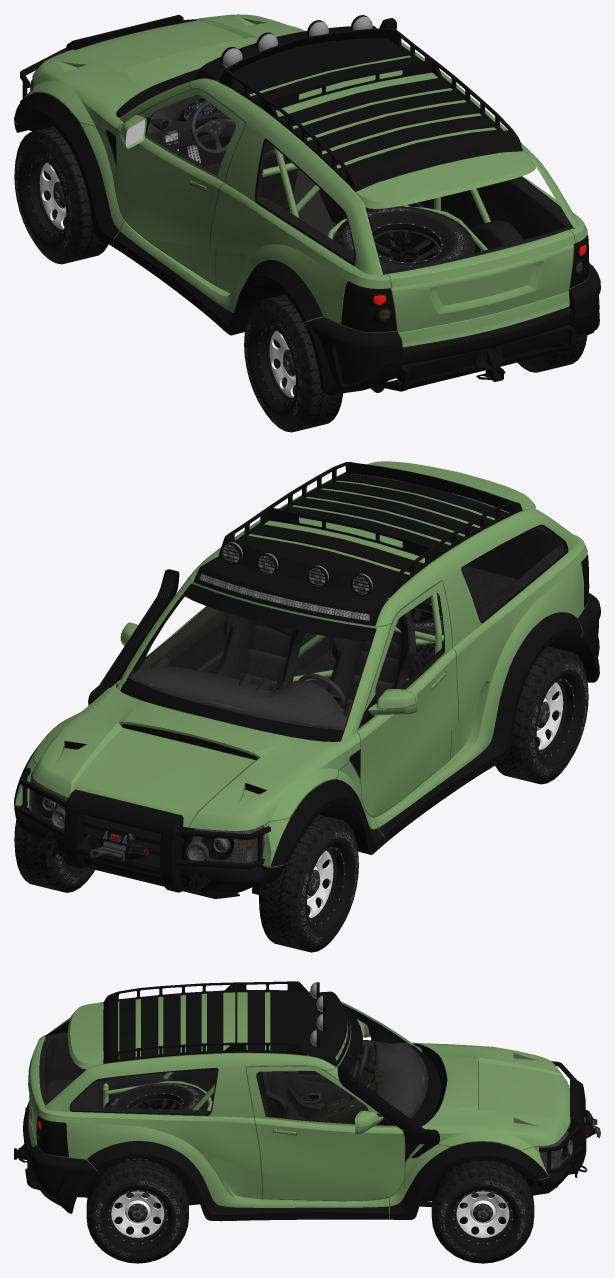
File: vehicle-offroad.glb
The picture shows the model from 3 angles, top to bottom: view 1: azimuth 30°, elevation 25°; view 2: azimuth 150°, elevation 25°; view 3: azimuth 270°, elevation 25°; orthographic projection. The views are drawn at different scales.
Visible parts, largest first — view 1: Body, roof rack, interior, Tire_tireBL, Tire_tireFL, tire carrier, rear under guard, roll cage, top lights, light bar, brush guard, Tire_tireBR (+3 smaller); view 2: Body, interior, roof rack, Tire_tireFL, Tire_tireBL, light bar, brush guard, Tire_tireFR, light guard, snorkle, tire carrier, top lights (+4 smaller); view 3: Body, interior, roof rack, Tire_tireBR, Tire_tireFR, tire carrier, snorkle, light bar, brush guard, light guard, top lights, mirror rt.
Part boxes in pixels (bbox=[...]): Body: bbox=[14, 14, 600, 394]; roof rack: bbox=[218, 28, 522, 191]; interior: bbox=[146, 94, 573, 274]; Tire_tireBL: bbox=[244, 294, 342, 432]; Tire_tireFL: bbox=[14, 126, 108, 264]; tire carrier: bbox=[327, 206, 487, 271]; rear under guard: bbox=[385, 324, 576, 391]; roll cage: bbox=[262, 147, 490, 222]; top lights: bbox=[220, 15, 372, 67]; light bar: bbox=[194, 26, 376, 80]; brush guard: bbox=[66, 15, 183, 50]; Tire_tireBR: bbox=[517, 335, 587, 372]; Body: bbox=[14, 461, 600, 892]; interior: bbox=[129, 526, 566, 730]; roof rack: bbox=[218, 462, 522, 597]; Tire_tireFL: bbox=[259, 814, 358, 952]; Tire_tireBL: bbox=[495, 646, 588, 784]; light bar: bbox=[193, 557, 388, 625]; brush guard: bbox=[64, 789, 184, 892]; Tire_tireFR: bbox=[14, 820, 94, 892]; light guard: bbox=[20, 767, 270, 869]; snorkle: bbox=[88, 569, 179, 705]; tire carrier: bbox=[293, 593, 444, 681]; top lights: bbox=[221, 542, 372, 596]; Body: bbox=[23, 991, 575, 1221]; interior: bbox=[39, 1007, 428, 1123]; roof rack: bbox=[103, 981, 320, 1063]; Tire_tireBR: bbox=[86, 1159, 188, 1263]; Tire_tireFR: bbox=[431, 1160, 534, 1263]; tire carrier: bbox=[103, 1081, 212, 1110]; snorkle: bbox=[337, 1065, 439, 1157]; light bar: bbox=[308, 991, 350, 1066]; brush guard: bbox=[570, 1077, 586, 1168]; light guard: bbox=[539, 1061, 582, 1173]; top lights: bbox=[310, 982, 325, 1047]; mirror rt: bbox=[355, 1110, 395, 1134].
Size of what is drawn, in the model's own units: 2.17 by 1.96 by 5.01.
12 materials, 5 textured.
